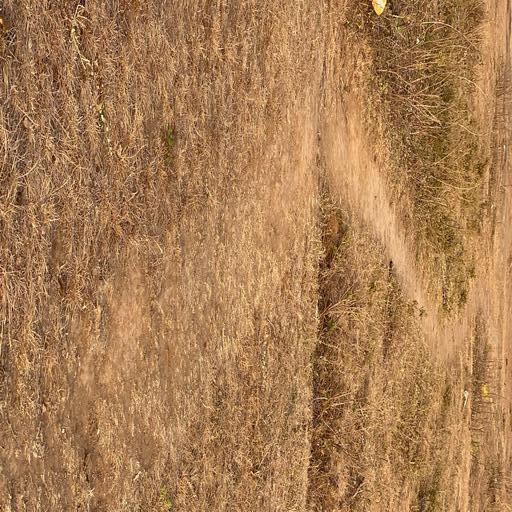vehicle_track: (100, 90, 480, 512)
